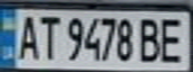4: (81, 14, 103, 62)
7: (100, 14, 118, 62)
8: (115, 15, 139, 62)
9: (60, 14, 84, 61)
A: (12, 11, 42, 61)
B: (136, 15, 163, 63)
E: (157, 13, 187, 64)
T: (36, 12, 60, 61)
